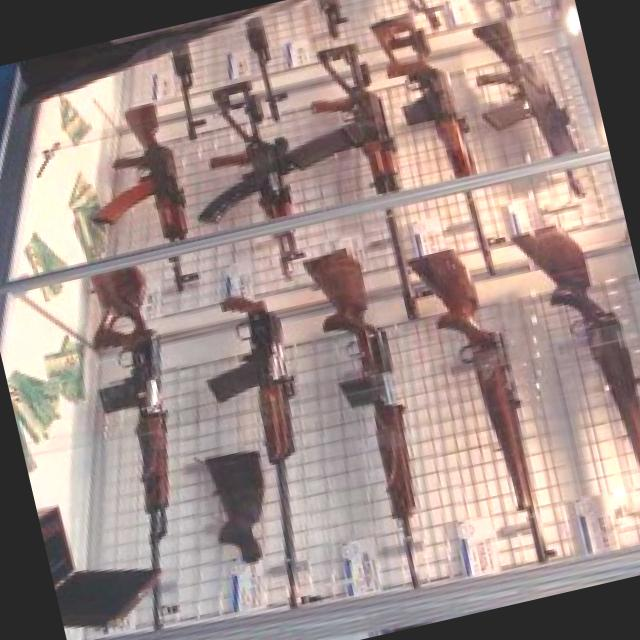long weapon: (35, 268, 232, 632), (403, 240, 568, 581), (292, 253, 449, 583), (197, 284, 352, 616), (292, 37, 441, 331), (518, 211, 639, 556), (396, 16, 507, 261), (88, 101, 206, 302), (191, 75, 301, 278), (473, 18, 579, 211)
